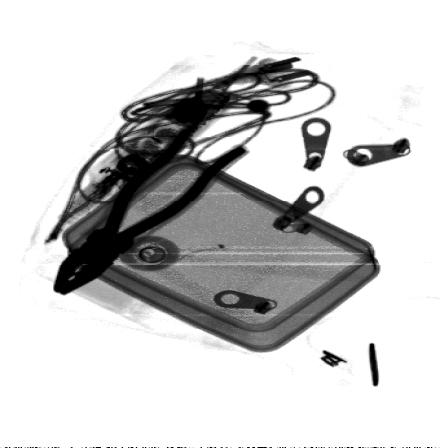Pliers: (52, 127, 251, 298)
